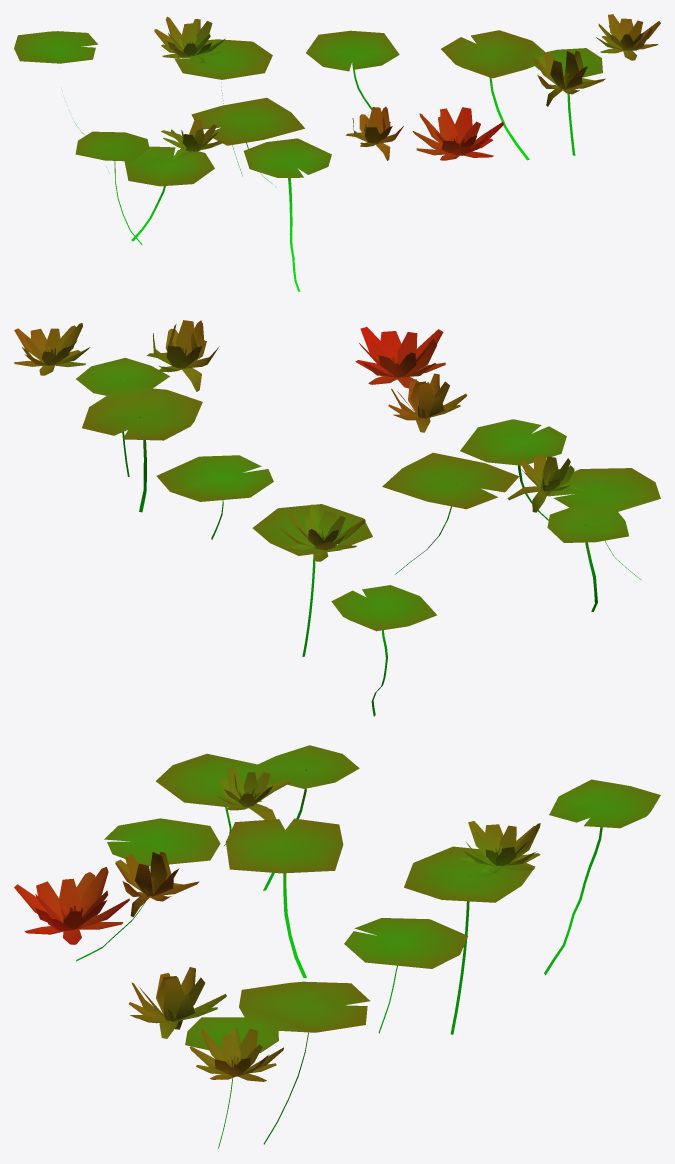
File: Var5_LOD1.fbx
The picture shows the model from 3 angles, top to bottom: view 1: azimuth 30°, elevation 25°; view 2: azimuth 150°, elevation 25°; view 3: azimuth 270°, elevation 25°; orthographic projection. The views are drawn at different scales.
Parts seen in each view (by area): view 1: _60a4_Var5_LOD1; view 2: _60a4_Var5_LOD1; view 3: _60a4_Var5_LOD1.
Boxes of the visible parts, left/top/right/bottom form: _60a4_Var5_LOD1: left=14, top=14, right=660, bottom=291; _60a4_Var5_LOD1: left=14, top=320, right=660, bottom=716; _60a4_Var5_LOD1: left=14, top=745, right=660, bottom=1148.
Bounding box in the file's own units: 170 × 44.54 × 133.
